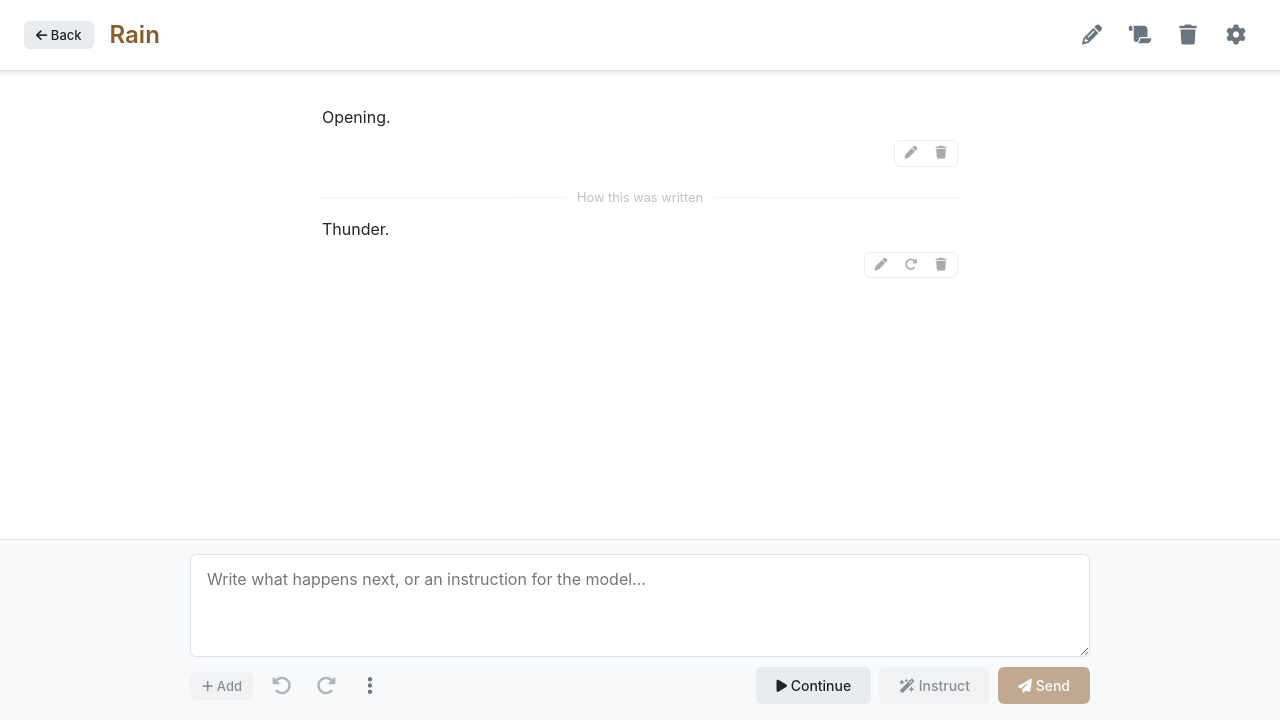
it: StoryEditor in Enhanced Story Mode › shows the new version's seam when it comes back with the same text
Click the button titled "Write another version".
click(911, 265)  # box [897, 255, 925, 276]
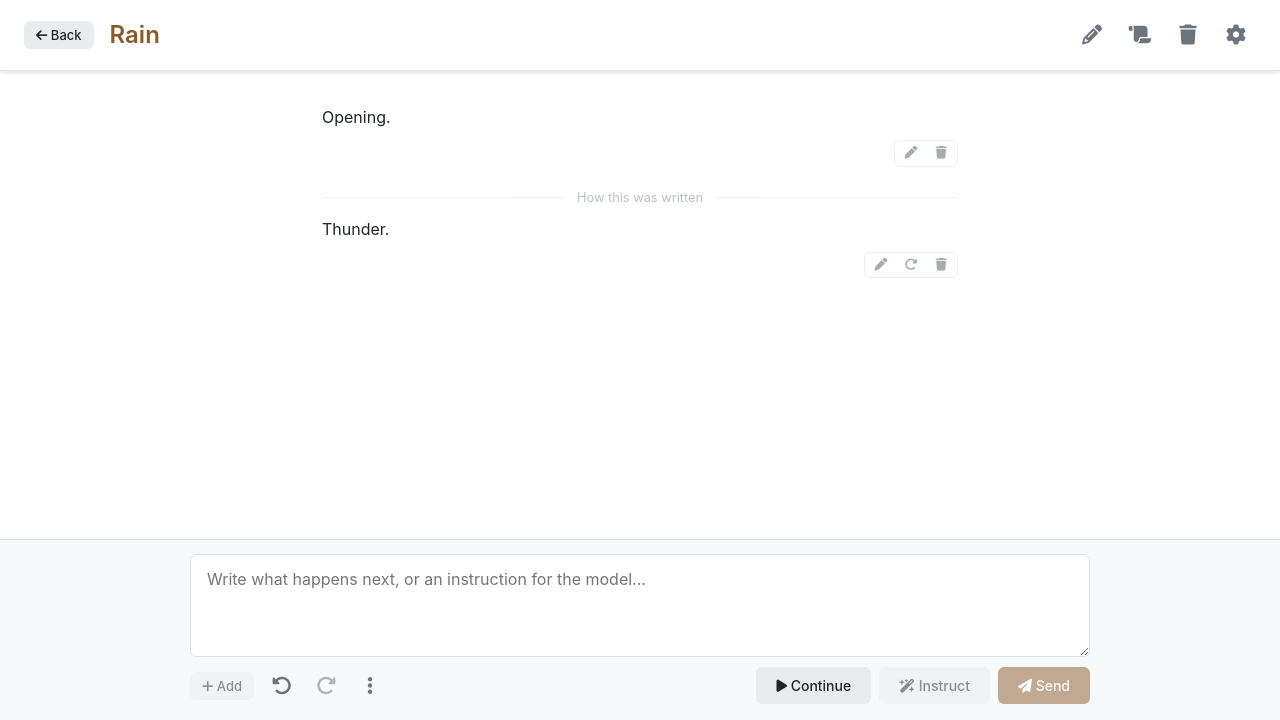
Click the button with class "seam-toggle".
click(640, 198)  # box [322, 183, 958, 213]
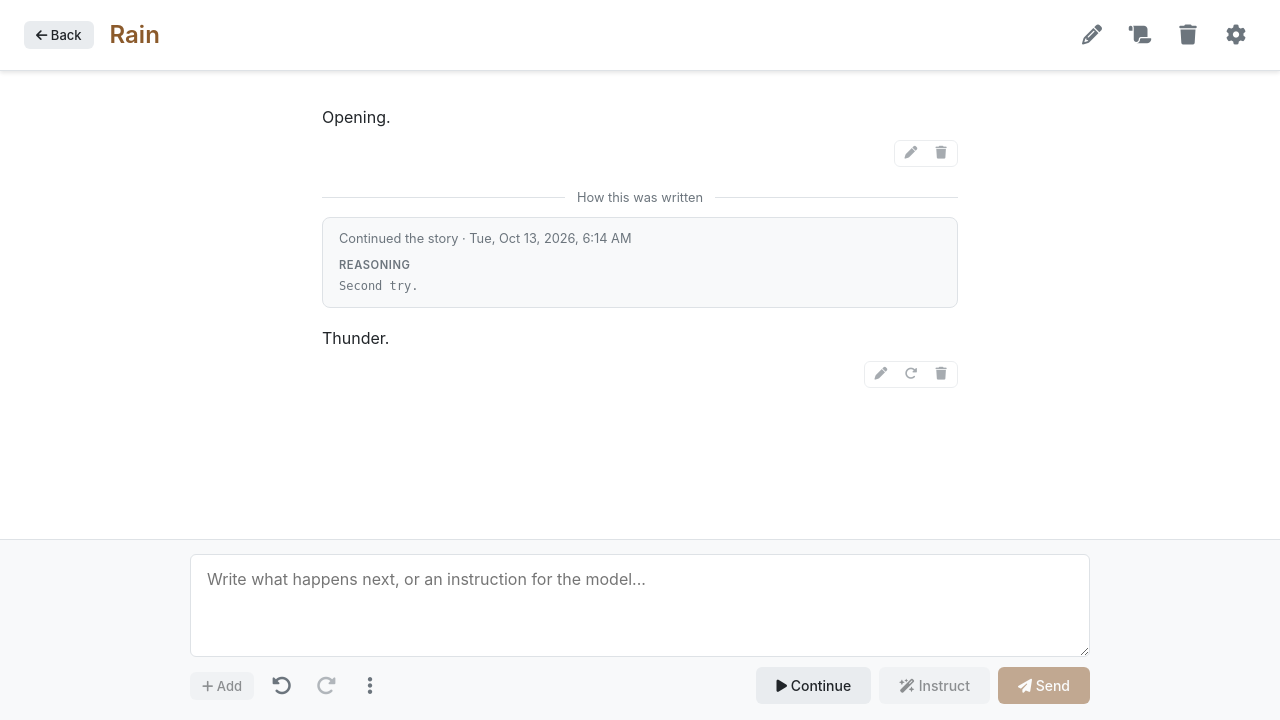
Check: the element with class "seam-panel" shows "Second try.", box [339, 280, 418, 294]
